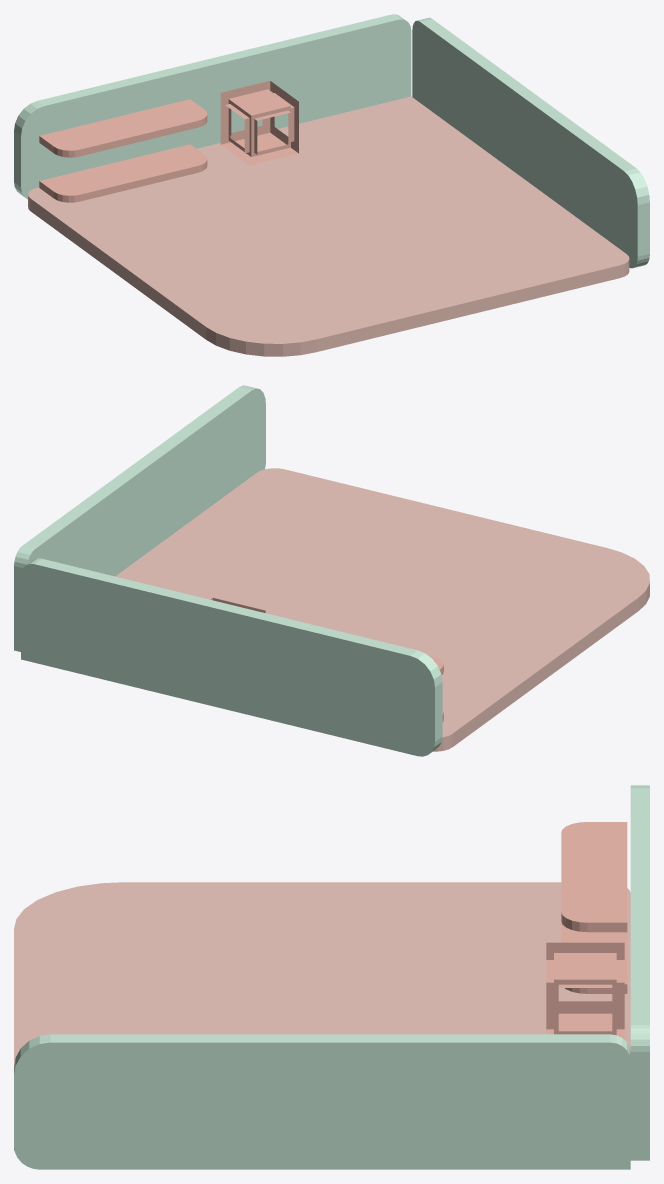
The model's file is store25.glb.
The picture shows the model from 3 angles, top to bottom: view 1: azimuth 30°, elevation 25°; view 2: azimuth 150°, elevation 25°; view 3: azimuth 270°, elevation 25°; orthographic projection. The views are drawn at different scales.
Size of the model in its own units: 3.09 by 0.6794 by 3.08.
